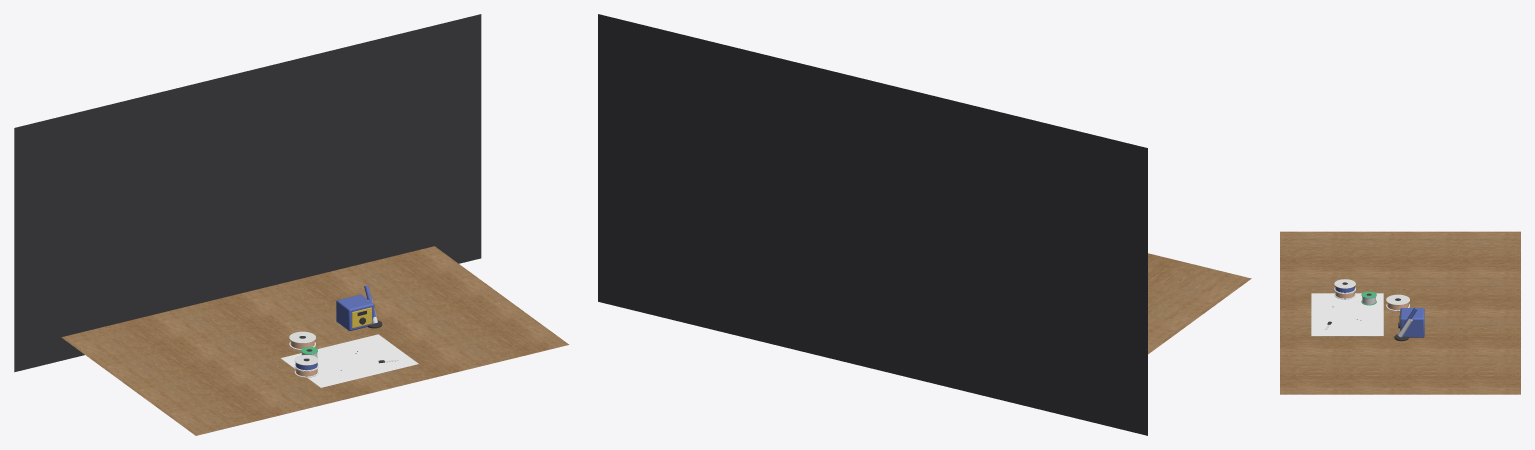
Rendered from set.glb.
3 renders of one model, left to right at view 1: azimuth 30°, elevation 25°; view 2: azimuth 150°, elevation 25°; view 3: azimuth 270°, elevation 25°, orthographic. The views are drawn at different scales.
Visible parts, largest first — view 1: Wall, Desk, ESDMat, Station; view 2: Wall, Desk; view 3: Desk, ESDMat, Station.
Boxes of the visible parts, x1,y1,x2,y2 form: Wall: (14, 14, 481, 372); Desk: (61, 246, 569, 435); ESDMat: (280, 334, 418, 387); Station: (336, 294, 374, 330); Wall: (598, 14, 1147, 435); Desk: (1148, 253, 1251, 354); Desk: (1280, 231, 1520, 394); ESDMat: (1311, 293, 1383, 336); Station: (1400, 308, 1424, 337).
Bounding box in the file's own units: 2 × 1 × 1.
Materials: 12 (1 with a texture image).
